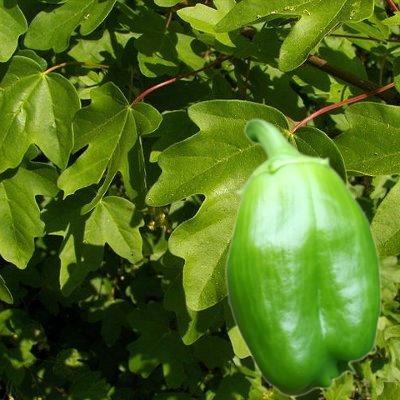bell_pepper: (224, 118, 381, 396)
